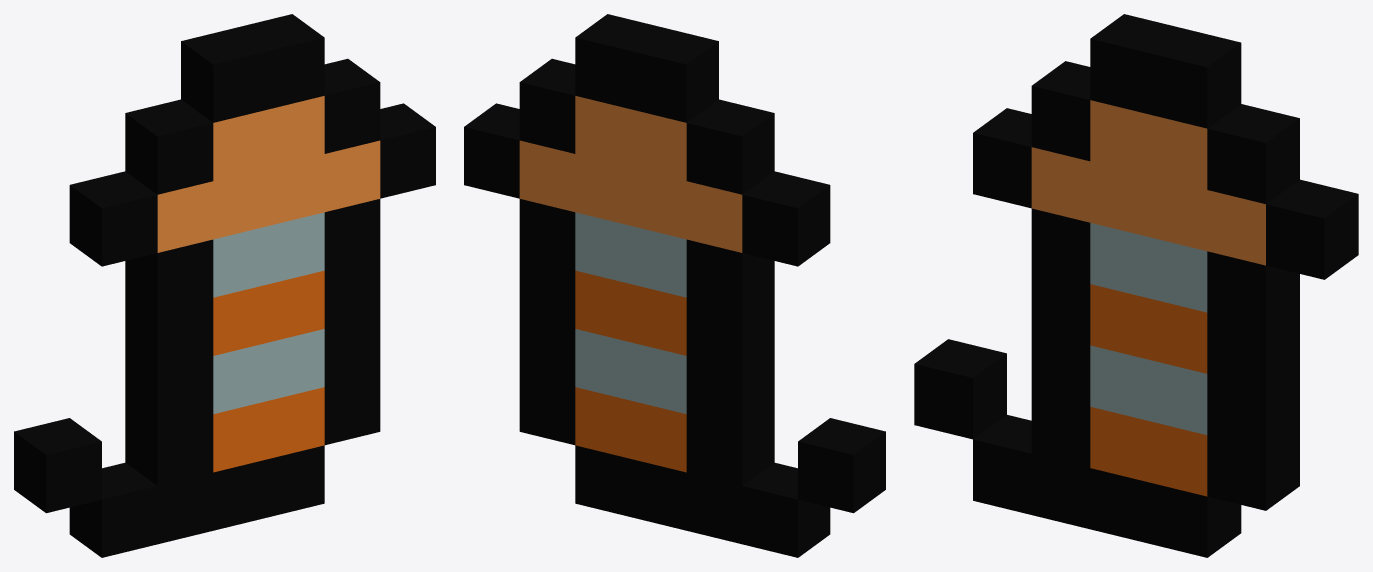
File: Orange Firecracker.glb
3 renders of one model, left to right at view 1: azimuth 30°, elevation 25°; view 2: azimuth 150°, elevation 25°; view 3: azimuth 330°, elevation 25°, orthographic. The views are drawn at different scales.
Parts seen in each view (by area): view 1: generated(Clone); view 2: generated(Clone); view 3: generated(Clone).
Part boxes in pixels (x1,y1,x2,y2): generated(Clone): (14, 14, 435, 557); generated(Clone): (464, 14, 885, 557); generated(Clone): (914, 14, 1358, 557).
Bounding box in the file's own units: 7 × 8 × 1.
Materials: 1 (1 with a texture image).
